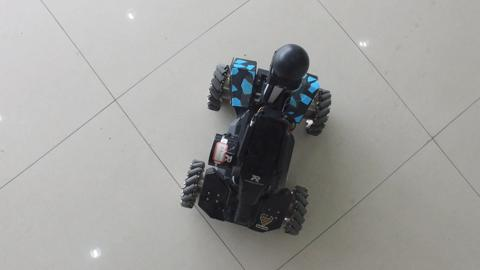chariot: (189, 31, 332, 235)
